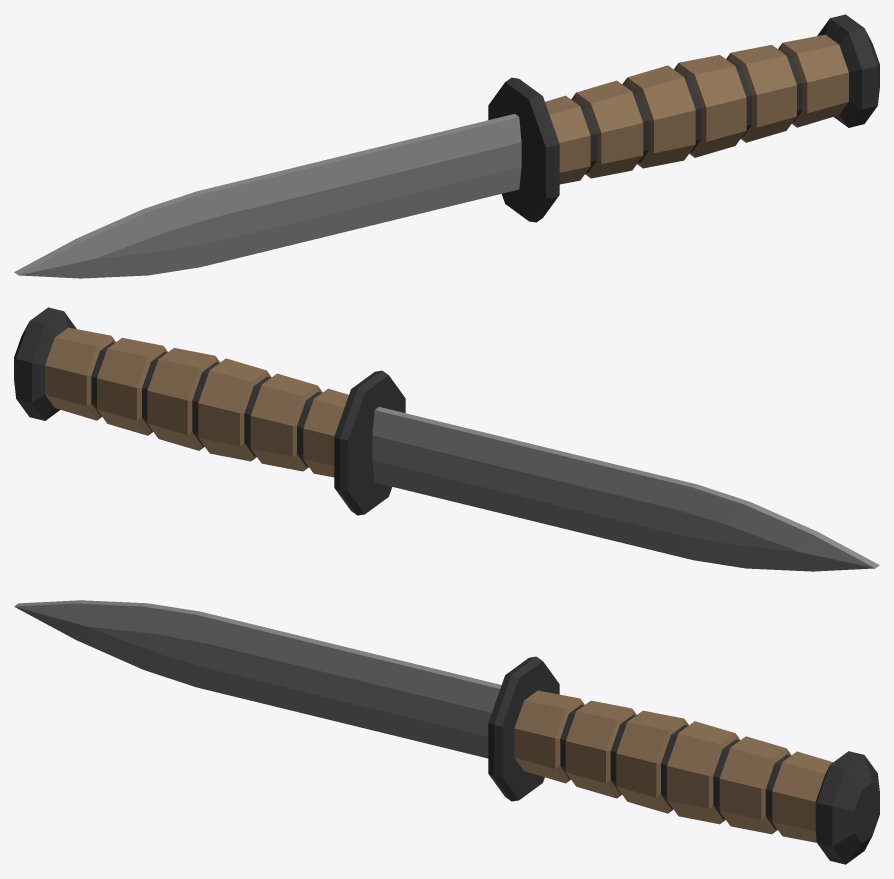
The model's file is SM_Props_Interior_Shop_Gun_Knife_03.fbx.
3 views of the same model, one above another, from view 1: azimuth 30°, elevation 25°; view 2: azimuth 150°, elevation 25°; view 3: azimuth 330°, elevation 25° (orthographic).
Visible parts, largest first — view 1: SM_Props_Interior_Shop_Gun_Knife_03; view 2: SM_Props_Interior_Shop_Gun_Knife_03; view 3: SM_Props_Interior_Shop_Gun_Knife_03.
Part boxes in pixels (x1,y1,x2,y2): SM_Props_Interior_Shop_Gun_Knife_03: (14,14,879,278); SM_Props_Interior_Shop_Gun_Knife_03: (14,307,879,571); SM_Props_Interior_Shop_Gun_Knife_03: (14,600,879,864).
Size of the model in its own units: 29.23 by 4.16 by 3.57.
